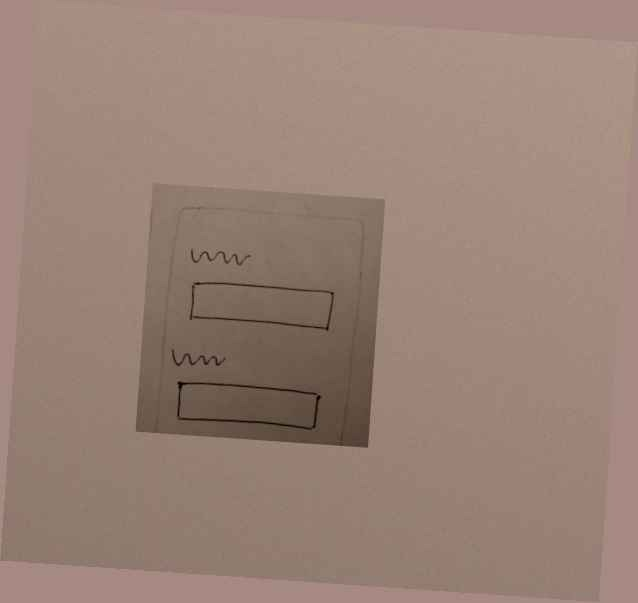text: (187, 242, 255, 271), (168, 345, 228, 372)
text_input: (172, 376, 323, 434), (187, 278, 337, 336)
